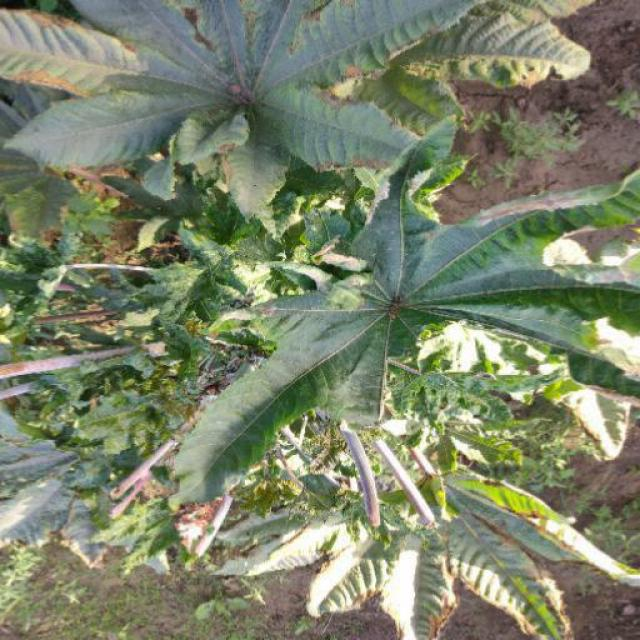crop: (19, 24, 619, 588)
